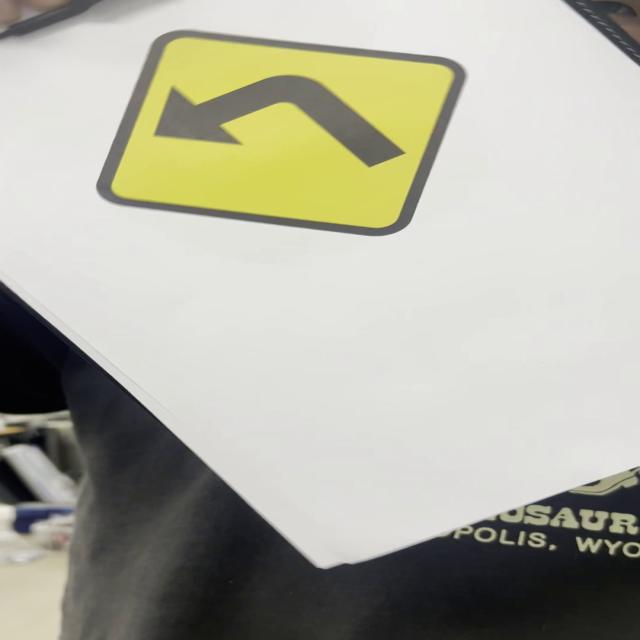left: (97, 30, 465, 238)
